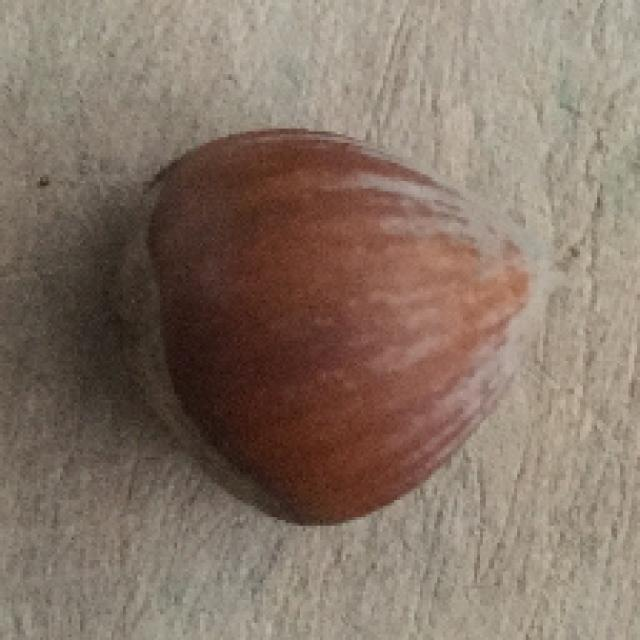qualityHazelnut: (120, 128, 550, 527)
